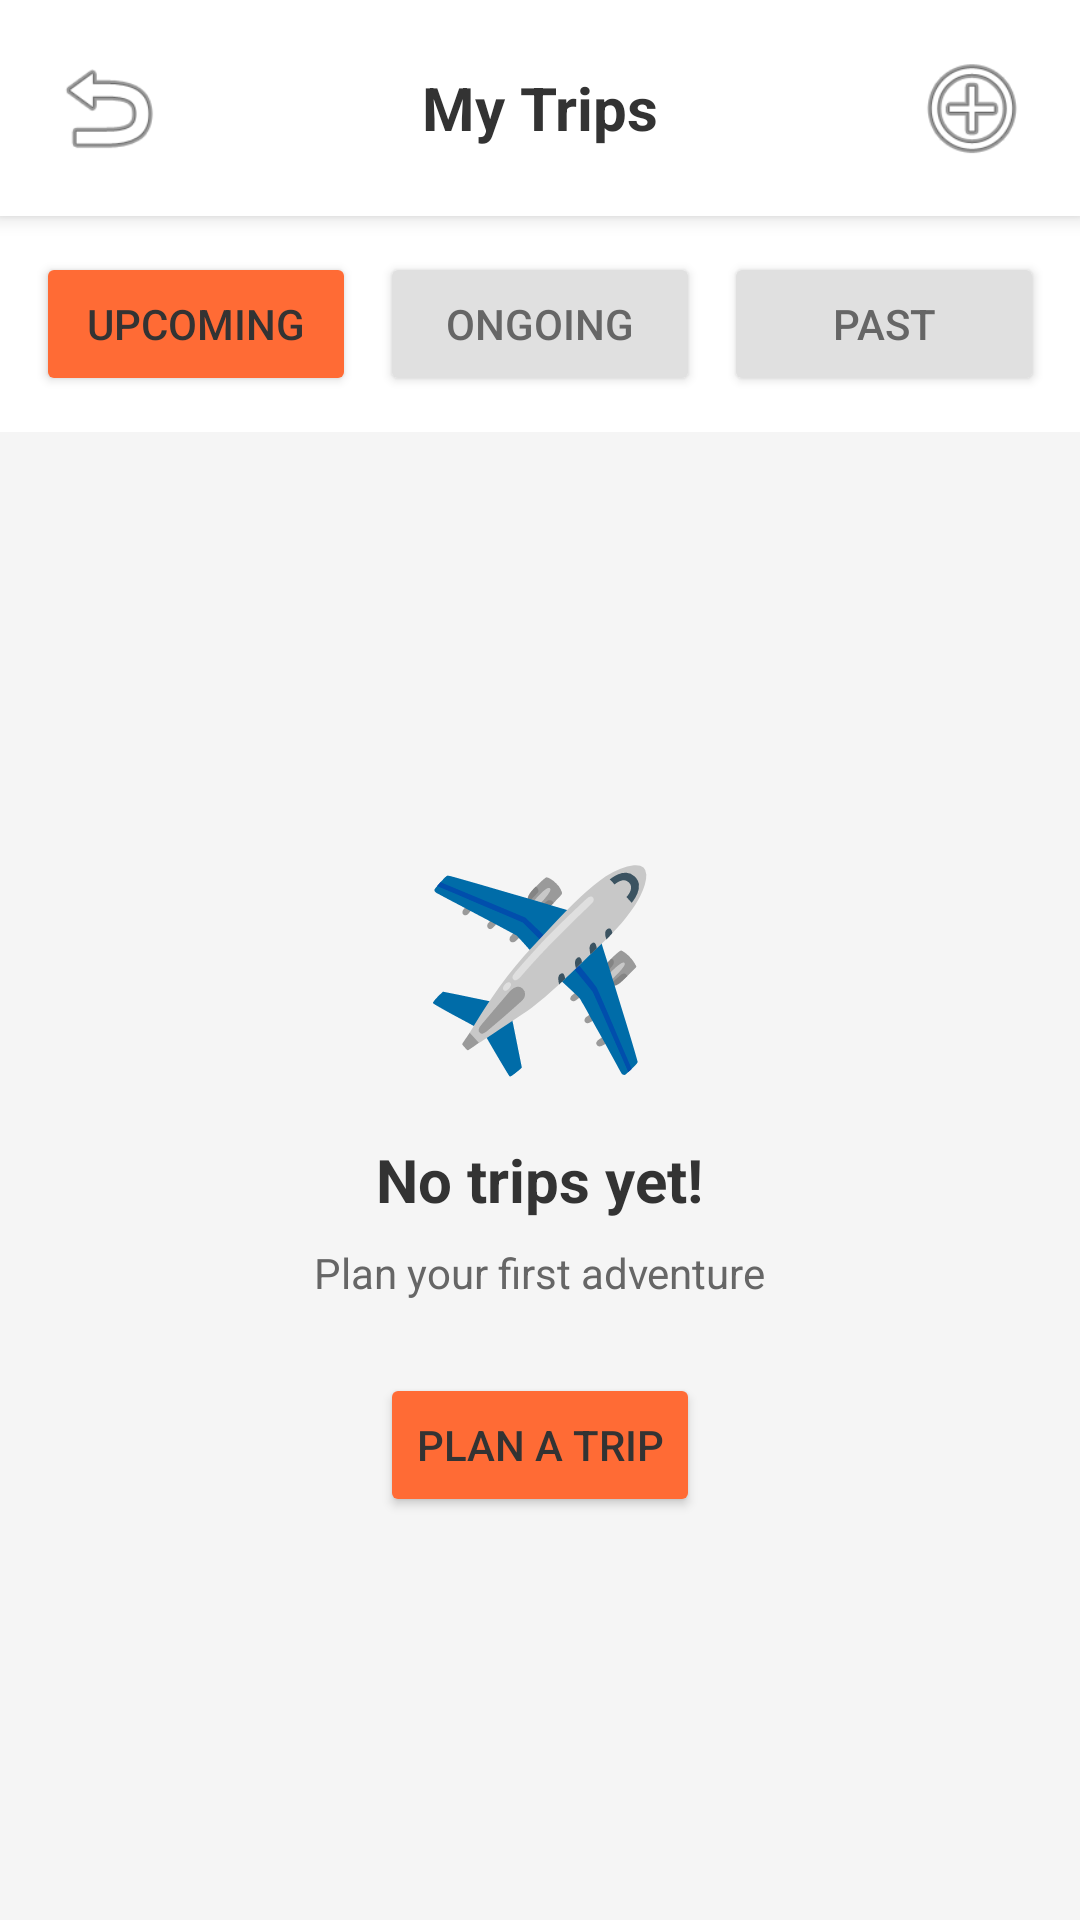

Named icons in this screenshot (1080w x 1920h) and their bounding boxes, box(x1, y1, x2, y2):
add: box(927, 64, 1017, 153)
revert: box(66, 69, 153, 148)
